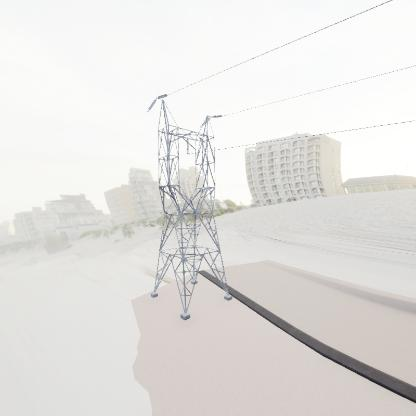tower: (149, 93, 232, 323)
